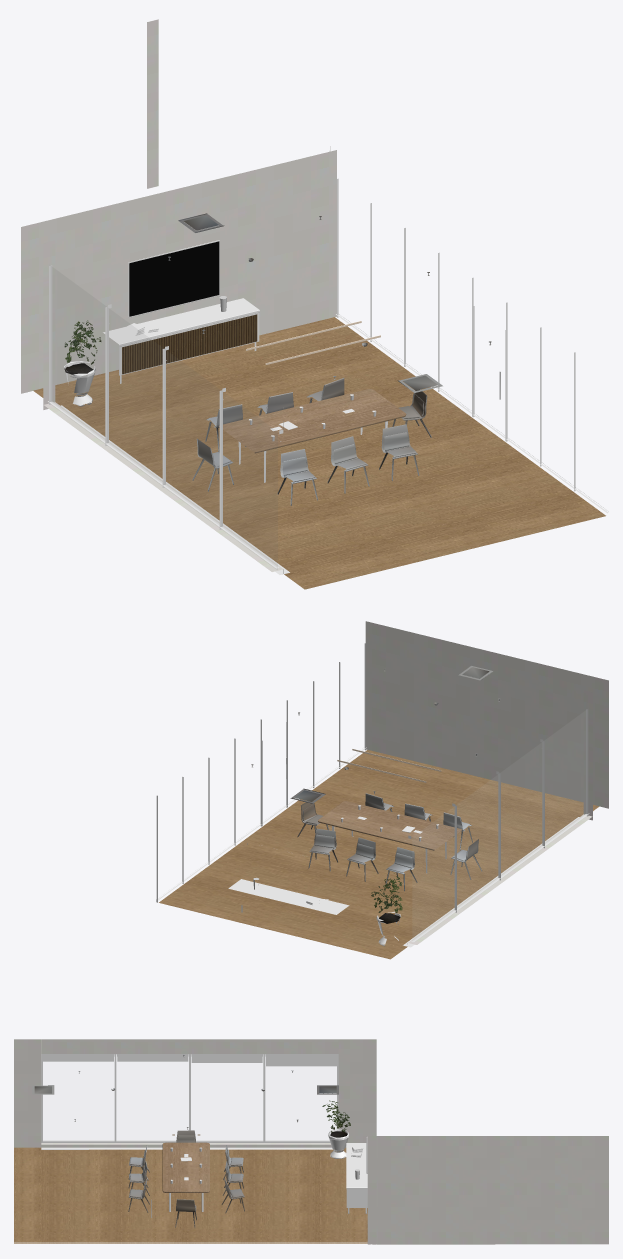
Rendered from z-meeting-lite.light.0c9ad39a.glb.
The picture shows the model from 3 angles, top to bottom: view 1: azimuth 30°, elevation 25°; view 2: azimuth 150°, elevation 25°; view 3: azimuth 270°, elevation 25°; orthographic projection. The views are drawn at different scales.
Parts seen in each view (by area): view 1: meeting_oak, meeting_plaster, meeting_satin, meeting_fx, meeting_emit, meeting_proxy_cab, meeting_veg_atlas; view 2: meeting_oak, meeting_plaster, meeting_satin, meeting_fx, meeting_veg_atlas; view 3: meeting_plaster, meeting_oak, meeting_satin, meeting_fx, meeting_veg_atlas, meeting_metal_lit.
Part boxes in pixels (bbox=[...]): meeting_oak: bbox=[33, 317, 605, 589]; meeting_plaster: bbox=[21, 19, 336, 573]; meeting_satin: bbox=[48, 178, 608, 574]; meeting_fx: bbox=[168, 213, 491, 505]; meeting_emit: bbox=[129, 241, 380, 364]; meeting_proxy_cab: bbox=[122, 314, 257, 374]; meeting_veg_atlas: bbox=[64, 320, 101, 374]; meeting_oak: bbox=[159, 750, 599, 959]; meeting_plaster: bbox=[365, 621, 608, 944]; meeting_satin: bbox=[156, 643, 589, 947]; meeting_fx: bbox=[251, 666, 500, 891]; meeting_veg_atlas: bbox=[371, 873, 402, 923]; meeting_plaster: bbox=[14, 1039, 608, 1244]; meeting_oak: bbox=[14, 1142, 367, 1243]; meeting_satin: bbox=[14, 1054, 367, 1242]; meeting_fx: bbox=[32, 1055, 338, 1227]; meeting_veg_atlas: bbox=[322, 1100, 350, 1137]; meeting_metal_lit: bbox=[41, 1149, 332, 1217].
Bounding box in the file's own units: 6.55 × 3.31 × 16.4.
Materials: 10 (5 with a texture image).
